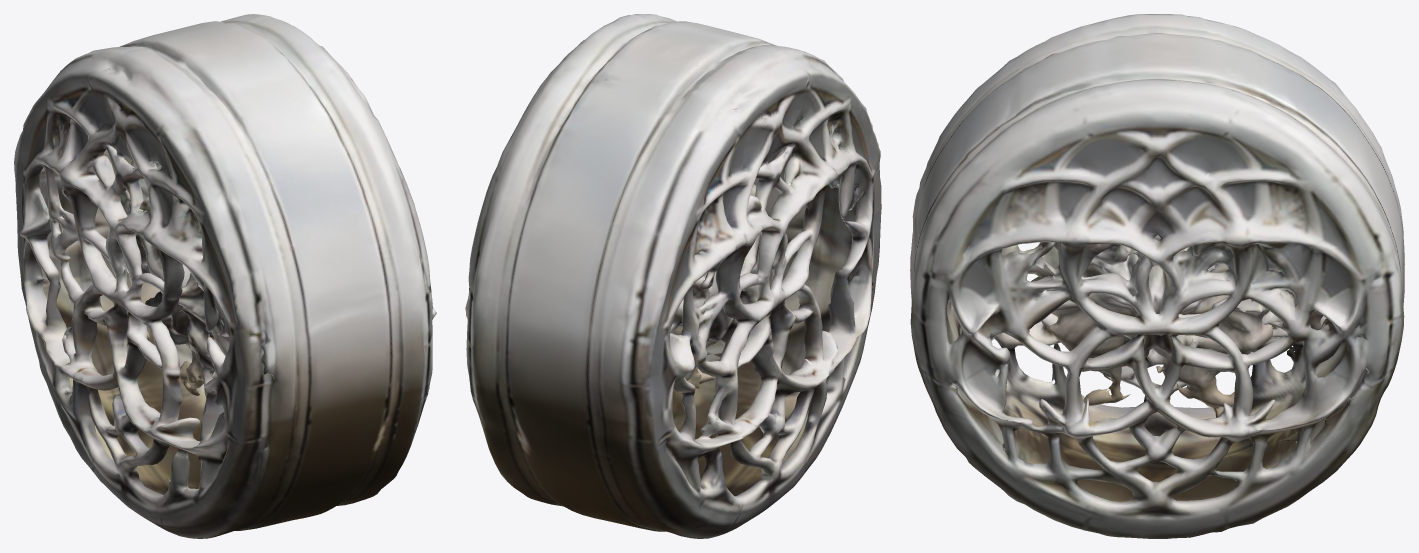
File: flower_of_life_3d.glb
3 renders of one model, left to right at view 1: azimuth 30°, elevation 25°; view 2: azimuth 150°, elevation 25°; view 3: azimuth 270°, elevation 25°, orthographic.
Parts seen in each view (by area): view 1: tripo_node_6b93b6f7-f519-4fc3-b7ad-621fa0ceac97; view 2: tripo_node_6b93b6f7-f519-4fc3-b7ad-621fa0ceac97; view 3: tripo_node_6b93b6f7-f519-4fc3-b7ad-621fa0ceac97.
Boxes of the visible parts, x1=… form: tripo_node_6b93b6f7-f519-4fc3-b7ad-621fa0ceac97: x1=14, y1=14, x2=436, y2=538; tripo_node_6b93b6f7-f519-4fc3-b7ad-621fa0ceac97: x1=465, y1=14, x2=881, y2=538; tripo_node_6b93b6f7-f519-4fc3-b7ad-621fa0ceac97: x1=910, y1=14, x2=1404, y2=538.
Bounding box in the file's own units: 0.3961 × 0.7054 × 0.6897.
Materials: 1 (1 with a texture image).
